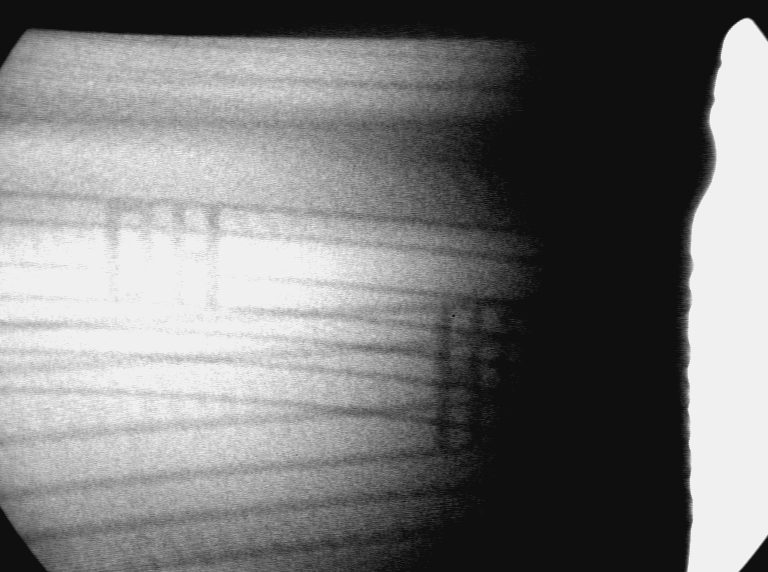defect: (437, 297, 527, 463)
